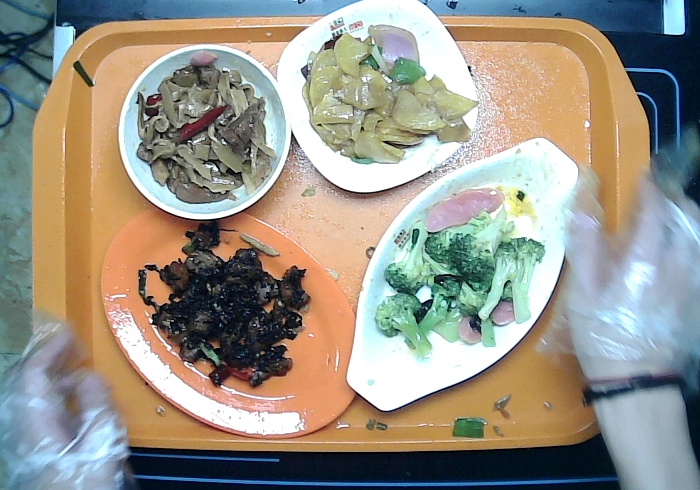NLDX-Bai_Se_Xiao_Fang_Die: (271, 1, 484, 200)
NLDX-Fan_Wan: (108, 36, 297, 225)
NLDX-Ju_Se_Pan: (92, 196, 370, 441)
NLDX-Yu_Pan: (339, 131, 583, 420)
